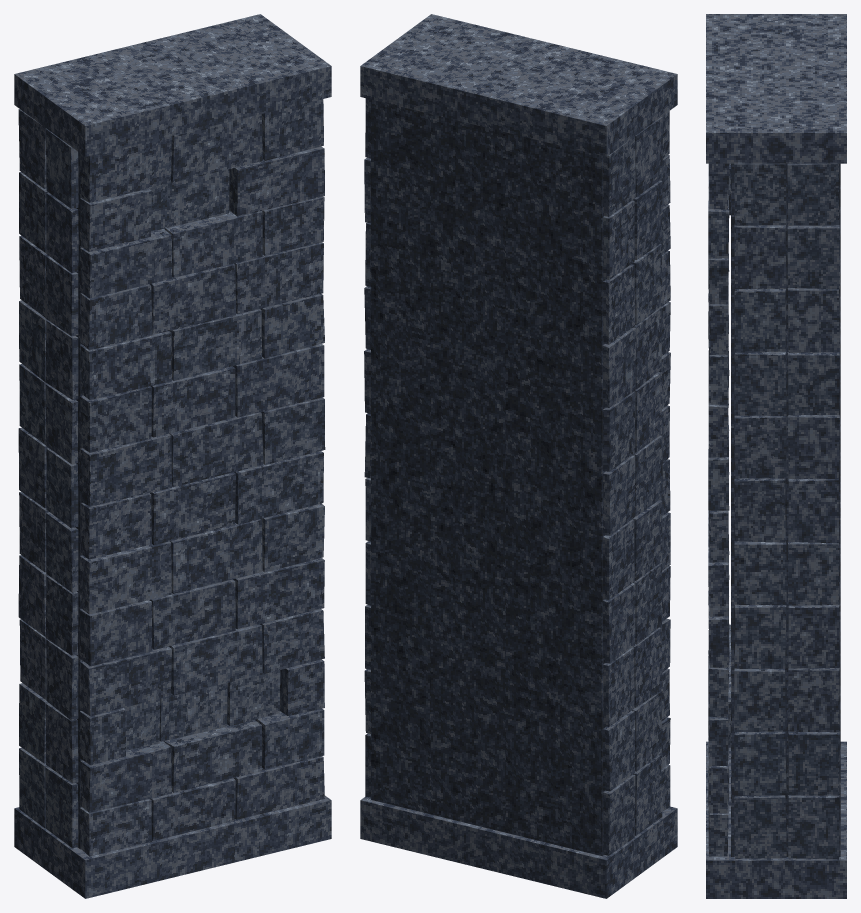
The model's file is SM_Env_GatePier_2x6.glb.
3 views of the same model, side by side, from view 1: azimuth 30°, elevation 25°; view 2: azimuth 150°, elevation 25°; view 3: azimuth 270°, elevation 25° (orthographic).
Parts seen in each view (by area): view 1: cornice, base, block_5_0, block_7_0, block_7_1, block_5_1, block_1_1, block_8_2, block_12_2, block_6_2, block_3_1, block_1_0 (+57 smaller); view 2: mortar, cornice, base, side_-1_3_0, side_-1_7_0, side_-1_1_0, side_-1_5_0, side_-1_8_0, side_-1_0_0, side_-1_6_0, side_-1_4_0, side_-1_10_0 (+13 smaller); view 3: cornice, base, mortar, side_1_9_0, side_1_1_1, side_1_4_1, side_1_8_0, side_1_7_1, side_1_8_1, side_1_0_0, side_1_9_1, side_1_2_0 (+27 smaller).
Boxes of the visible parts, x1,y1,x2,y2 form: cornice: [14, 14, 331, 156]; base: [14, 795, 331, 898]; block_5_0: [79, 541, 171, 614]; block_7_0: [79, 433, 171, 506]; block_7_1: [169, 412, 263, 487]; block_5_1: [169, 519, 262, 593]; block_1_1: [163, 720, 261, 792]; block_8_2: [233, 344, 324, 417]; block_12_2: [229, 146, 324, 216]; block_6_2: [234, 451, 323, 524]; block_3_1: [169, 624, 262, 695]; block_1_0: [80, 741, 171, 812]; mortar: [371, 99, 605, 855]; cornice: [360, 14, 677, 156]; base: [360, 796, 677, 898]; side_-1_3_0: [602, 583, 635, 663]; side_-1_7_0: [602, 327, 635, 407]; side_-1_1_0: [602, 710, 634, 791]; side_-1_5_0: [603, 455, 635, 535]; side_-1_8_0: [602, 264, 634, 344]; side_-1_0_0: [603, 774, 635, 855]; side_-1_6_0: [603, 391, 635, 471]; side_-1_4_0: [603, 519, 634, 599]; side_-1_10_0: [602, 136, 635, 216]; cornice: [706, 14, 846, 163]; base: [706, 741, 846, 898]; mortar: [731, 163, 840, 856]; side_1_9_0: [787, 225, 839, 289]; side_1_1_1: [734, 731, 786, 796]; side_1_4_1: [734, 541, 786, 605]; side_1_8_0: [787, 288, 839, 352]; side_1_7_1: [734, 352, 786, 415]; side_1_8_1: [734, 289, 786, 352]; side_1_0_0: [788, 795, 839, 859]; side_1_9_1: [734, 225, 786, 288]; side_1_2_0: [788, 667, 839, 732].
Bounding box in the file's own units: 2 × 6 × 1.
Materials: 1 (1 with a texture image).
